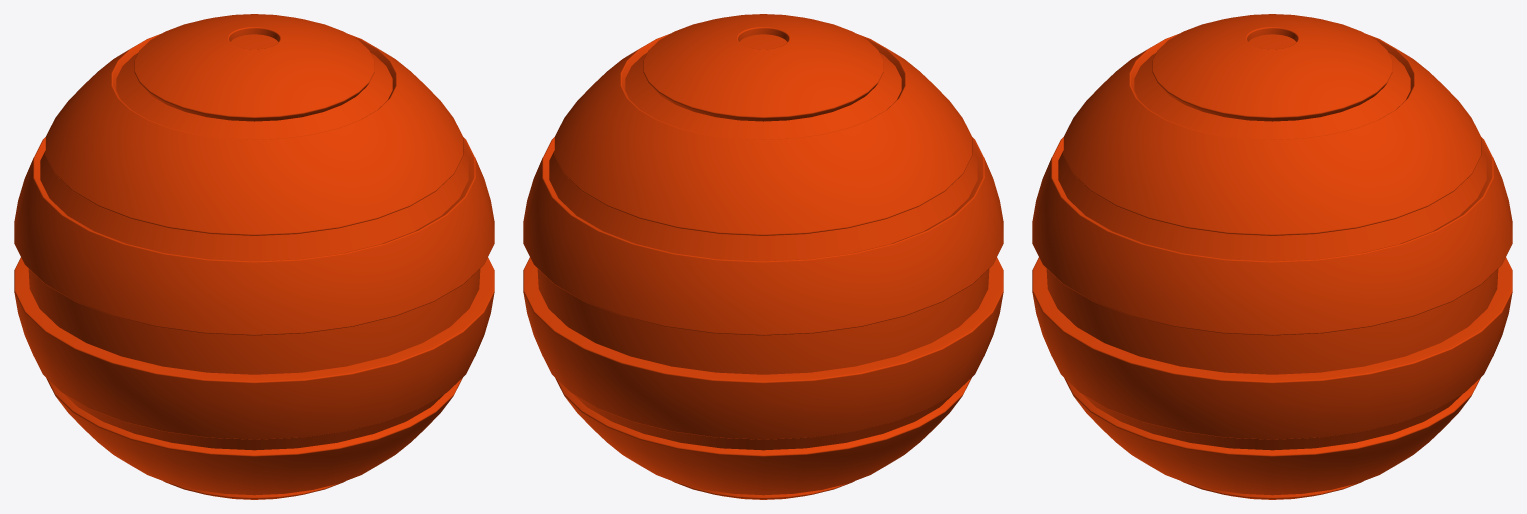
3 views of the same model, side by side, from view 1: azimuth 30°, elevation 25°; view 2: azimuth 150°, elevation 25°; view 3: azimuth 270°, elevation 25° (orthographic).
Parts seen in each view (by area): view 1: SM_Sphere; view 2: SM_Sphere; view 3: SM_Sphere.
Boxes of the visible parts, x1,y1,x2,y2 form: SM_Sphere: [14, 14, 494, 499]; SM_Sphere: [523, 14, 1003, 499]; SM_Sphere: [1032, 14, 1512, 499].
Size of the model in its own units: 1.99 by 1.99 by 1.98.
